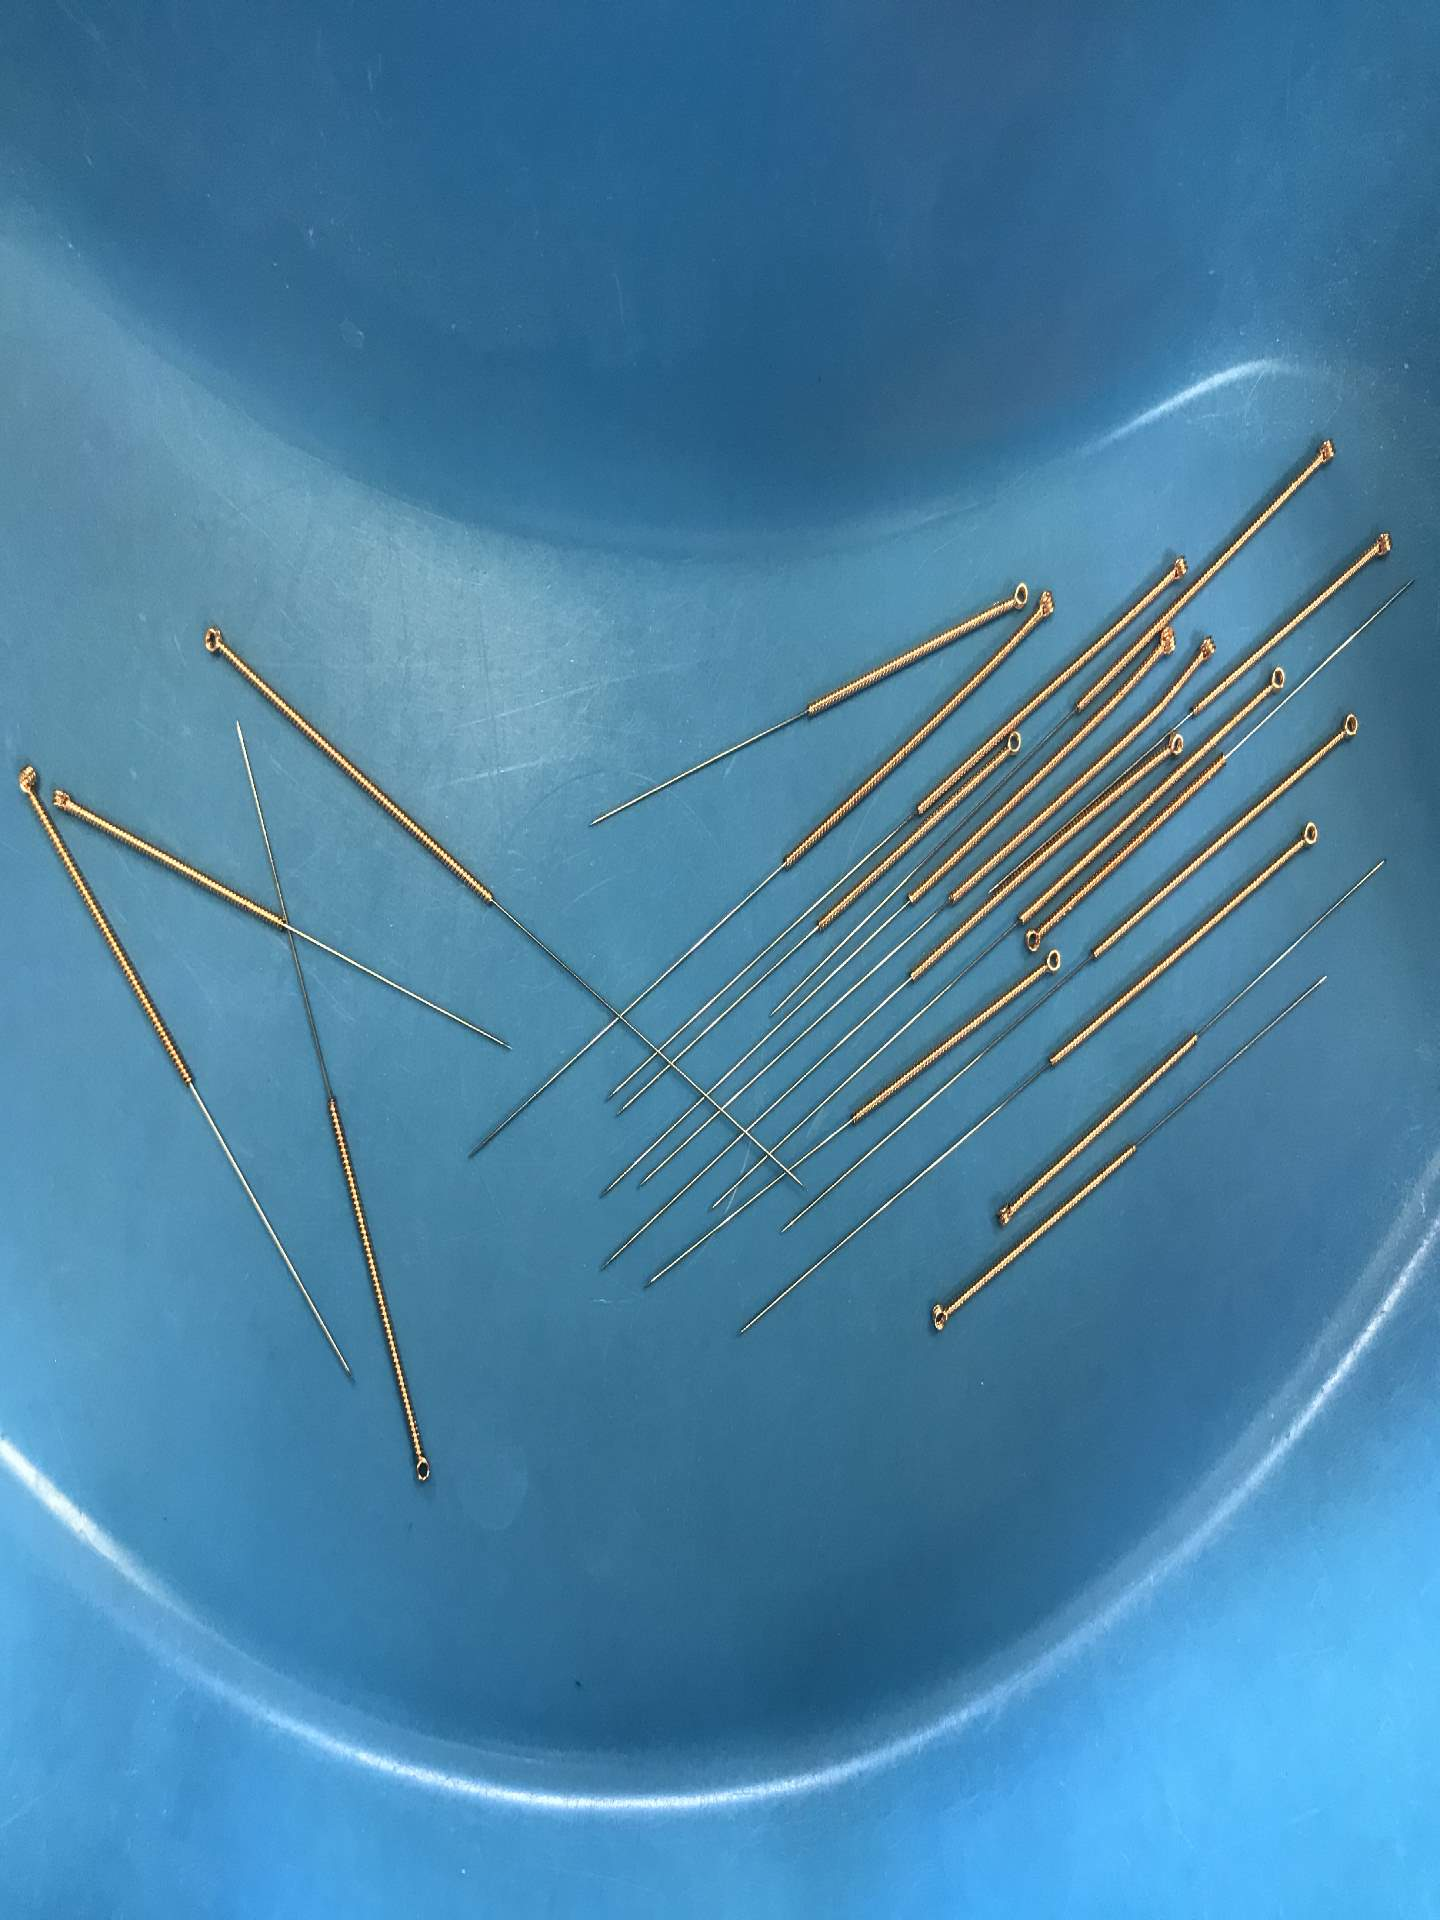needle: (399, 1436, 440, 1494), (917, 1293, 962, 1341), (194, 617, 234, 668), (12, 756, 45, 816), (45, 777, 85, 821), (1159, 544, 1196, 590), (1305, 429, 1345, 472), (1026, 584, 1065, 624), (1364, 522, 1402, 562), (988, 1191, 1024, 1234), (1187, 629, 1224, 670), (1001, 573, 1035, 617), (1292, 813, 1327, 854), (1257, 661, 1293, 698), (1331, 709, 1369, 745), (1156, 726, 1192, 763), (1016, 921, 1050, 960), (1036, 943, 1068, 983), (997, 727, 1032, 762), (1150, 623, 1184, 656)
